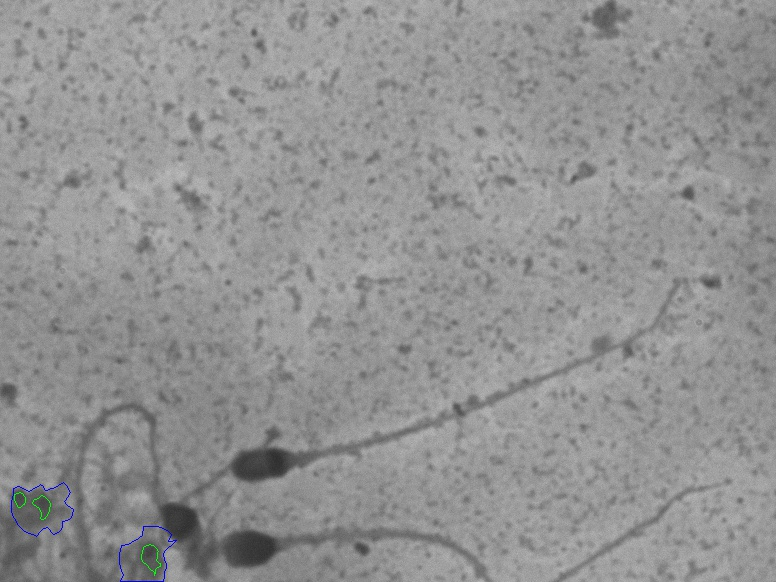Abnormal: (218, 381, 495, 497)
